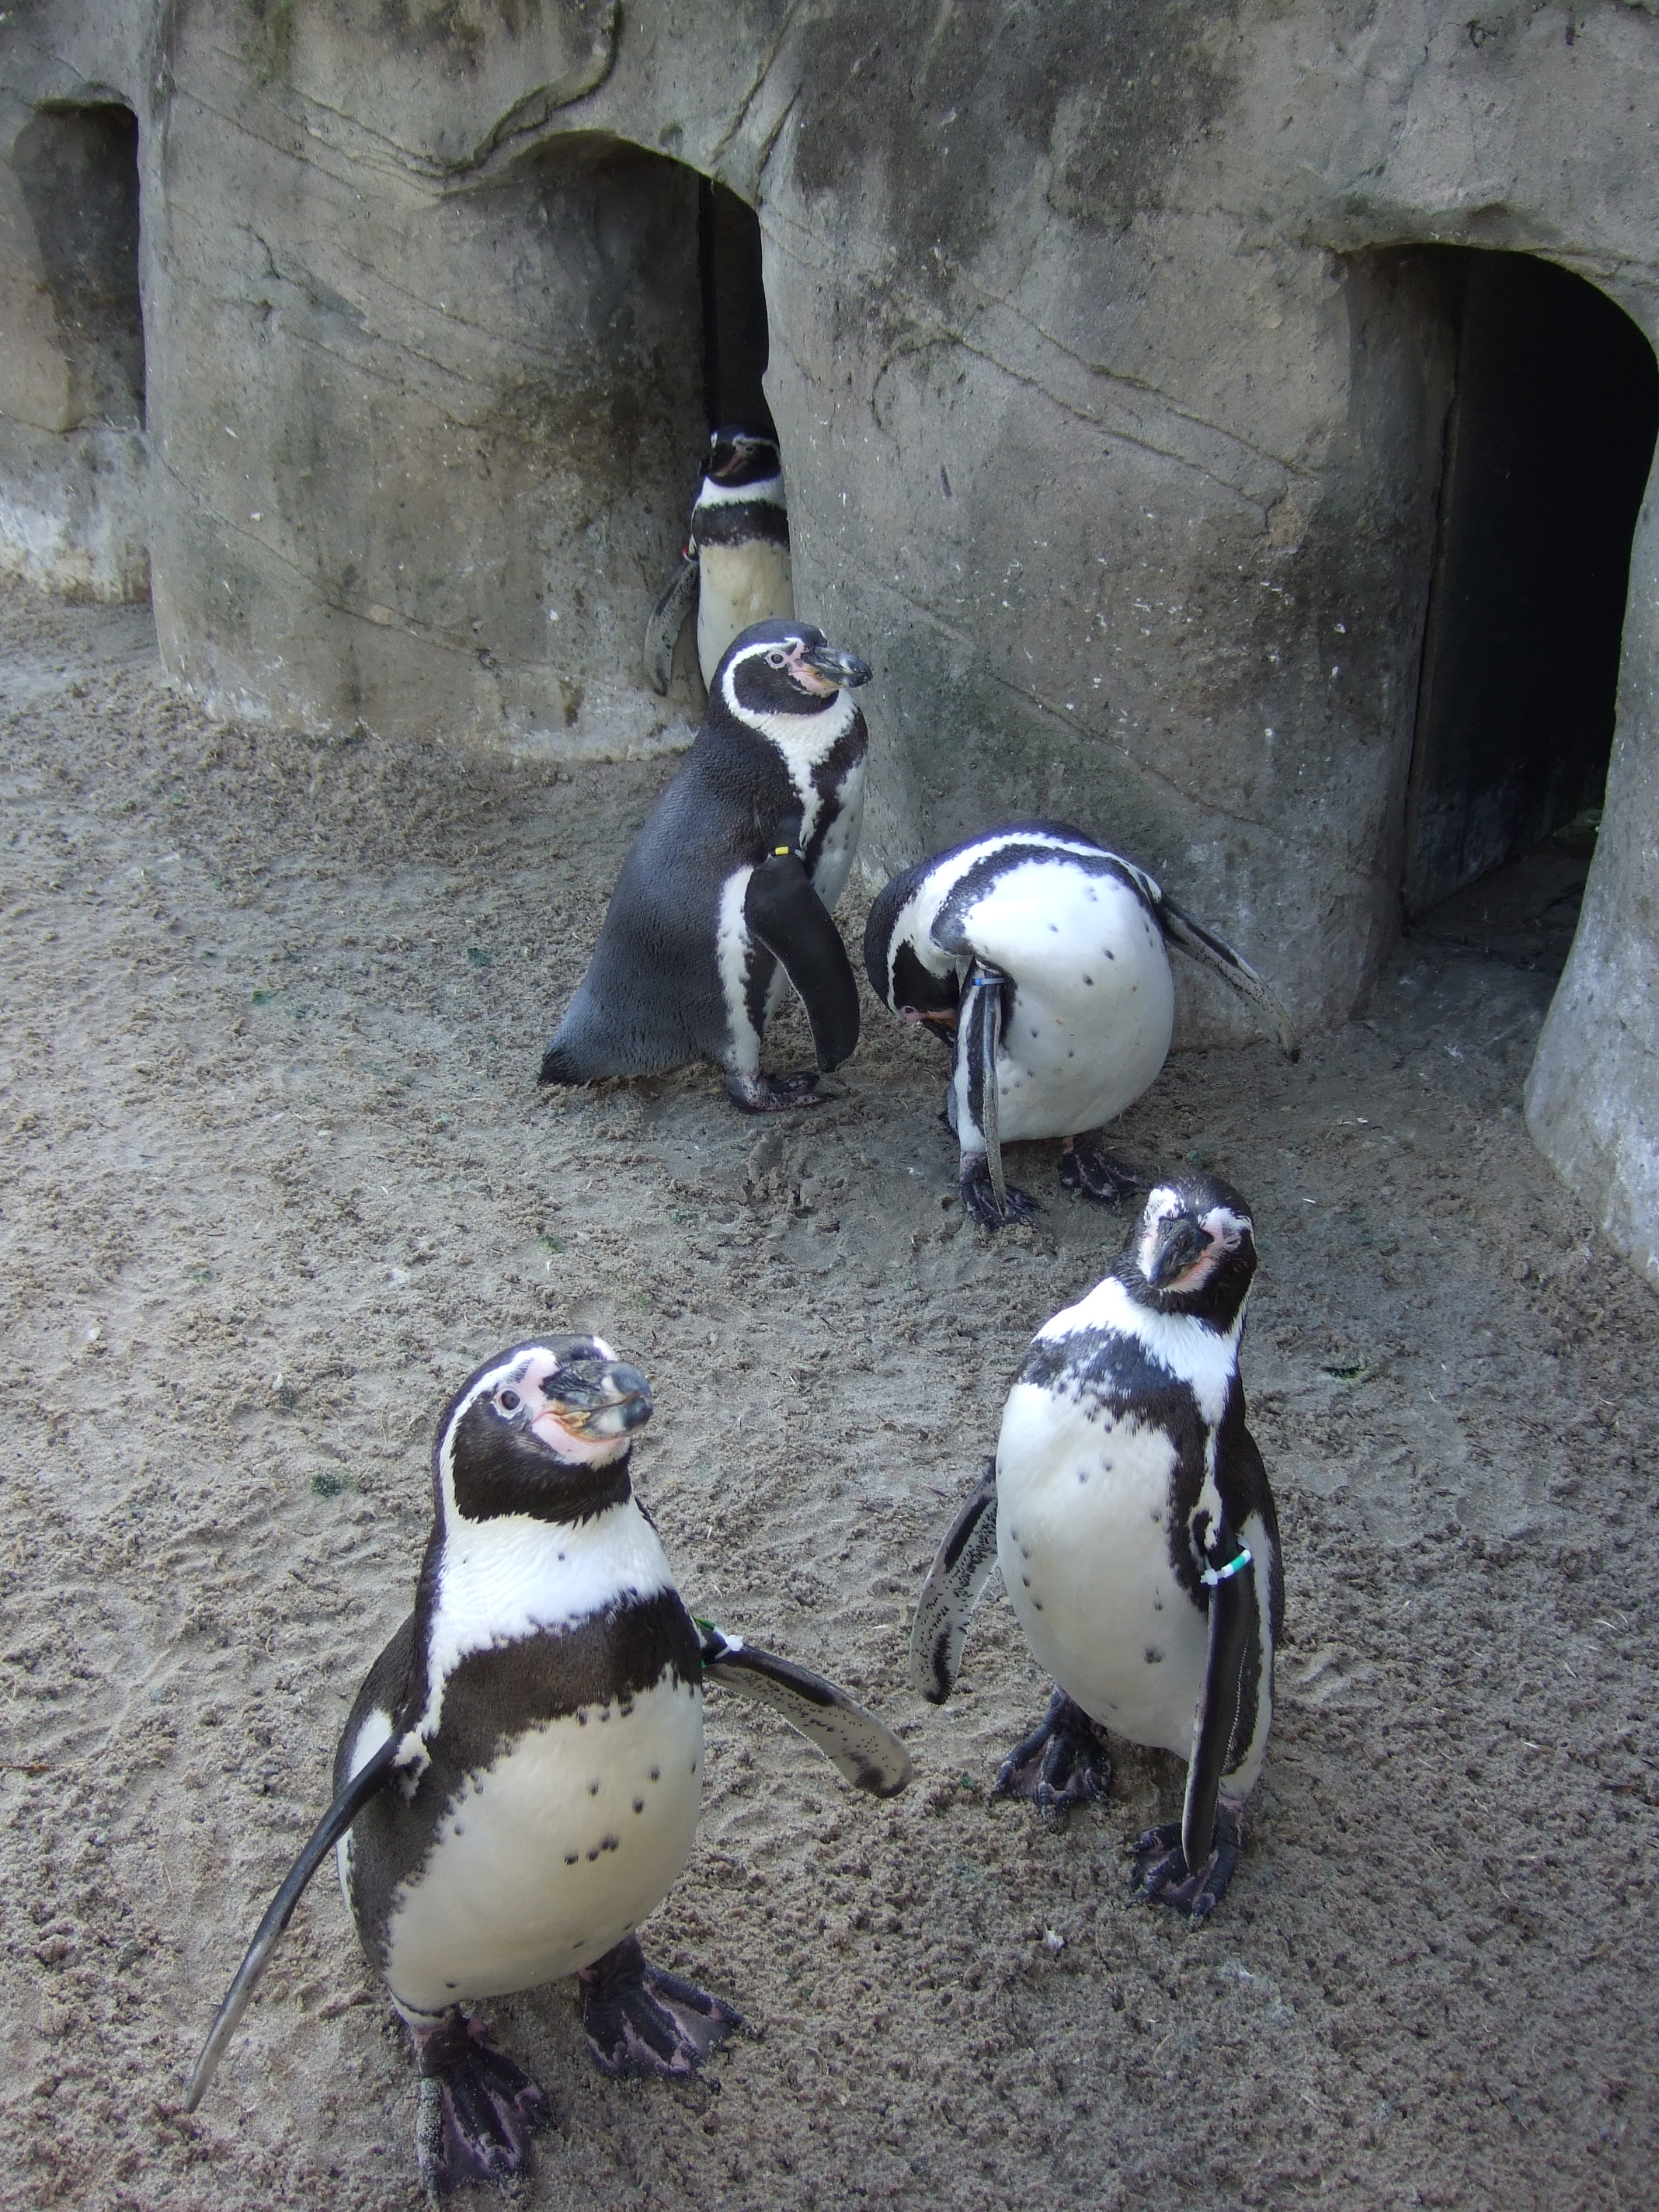penguin: (183, 1329, 917, 2212), (925, 1169, 1302, 1918), (866, 824, 1330, 1228), (551, 618, 870, 1115)
